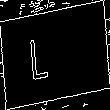L_N: (44, 28, 66, 82)
